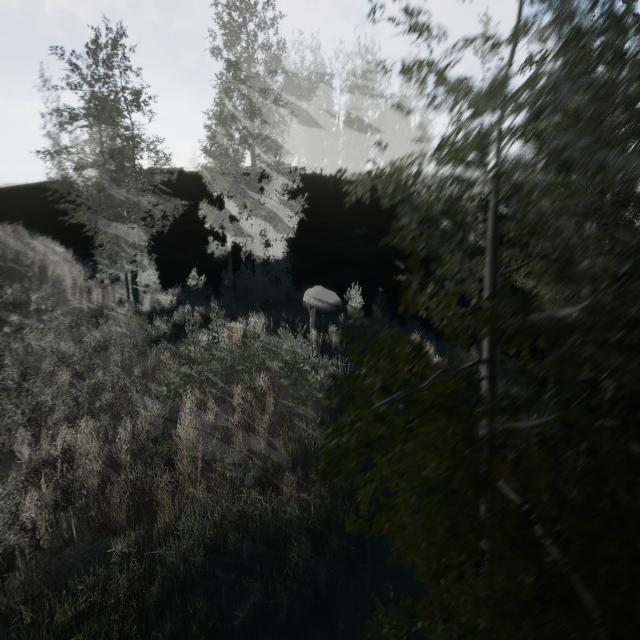Human: (302, 296, 323, 366)
